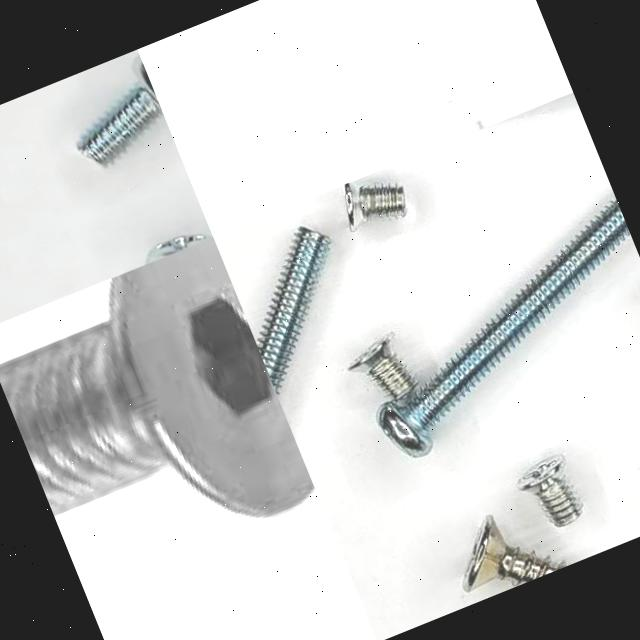Screw: (0, 237, 313, 515), (376, 198, 630, 457), (256, 227, 328, 394), (76, 59, 163, 166), (462, 516, 564, 593), (518, 457, 581, 528), (347, 338, 415, 399), (343, 181, 404, 230)
